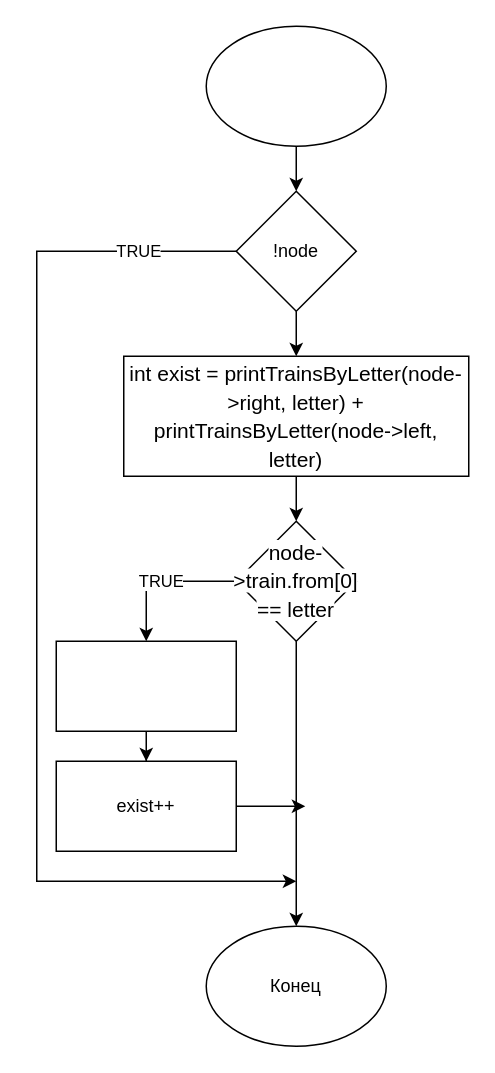
Some shapes in this 495 by 1073 pixel diagram are drawn without their labels. Here are the shapes that lost their labels. From the top down, the centre of each, then its label:
At pixel 295 85: "Начало printTrainsByLetter".
At pixel 145 685: "printTrain(node->train)".
